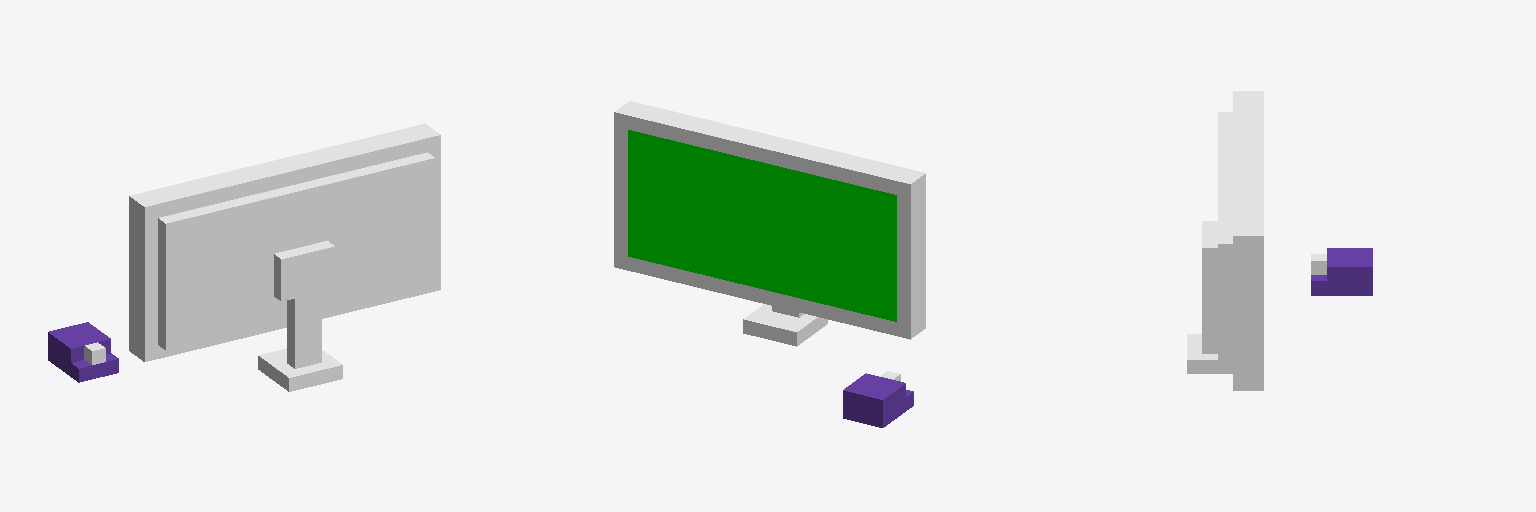
3 renders of one model, left to right at view 1: azimuth 30°, elevation 25°; view 2: azimuth 150°, elevation 25°; view 3: azimuth 270°, elevation 25°, orthographic.
Visible parts, largest first — view 1: object 1; view 2: object 1; view 3: object 1.
Part boxes in pixels (left/top/right/bottom): object 1: left=48, top=123, right=440, bottom=391; object 1: left=614, top=101, right=925, bottom=427; object 1: left=1187, top=91, right=1372, bottom=390.
Bounding box in the file's own units: 2.4 × 1.4 × 1.2.
1 materials, 1 textured.